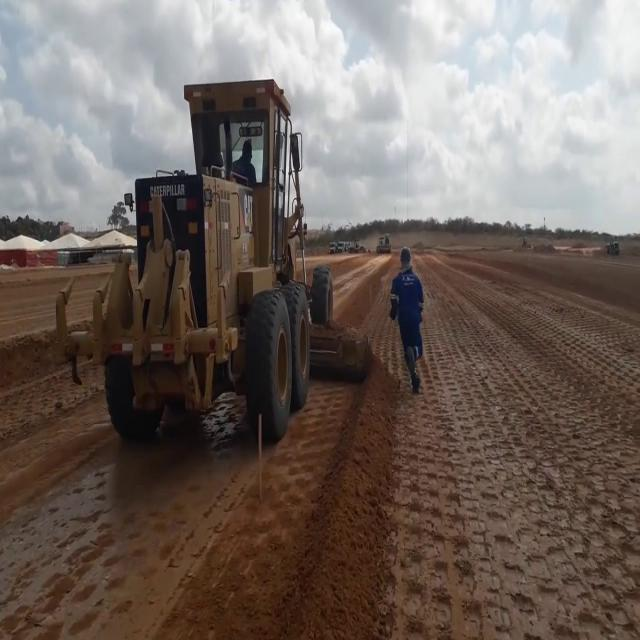buldozerpayloadergrader: (54, 76, 370, 438)
